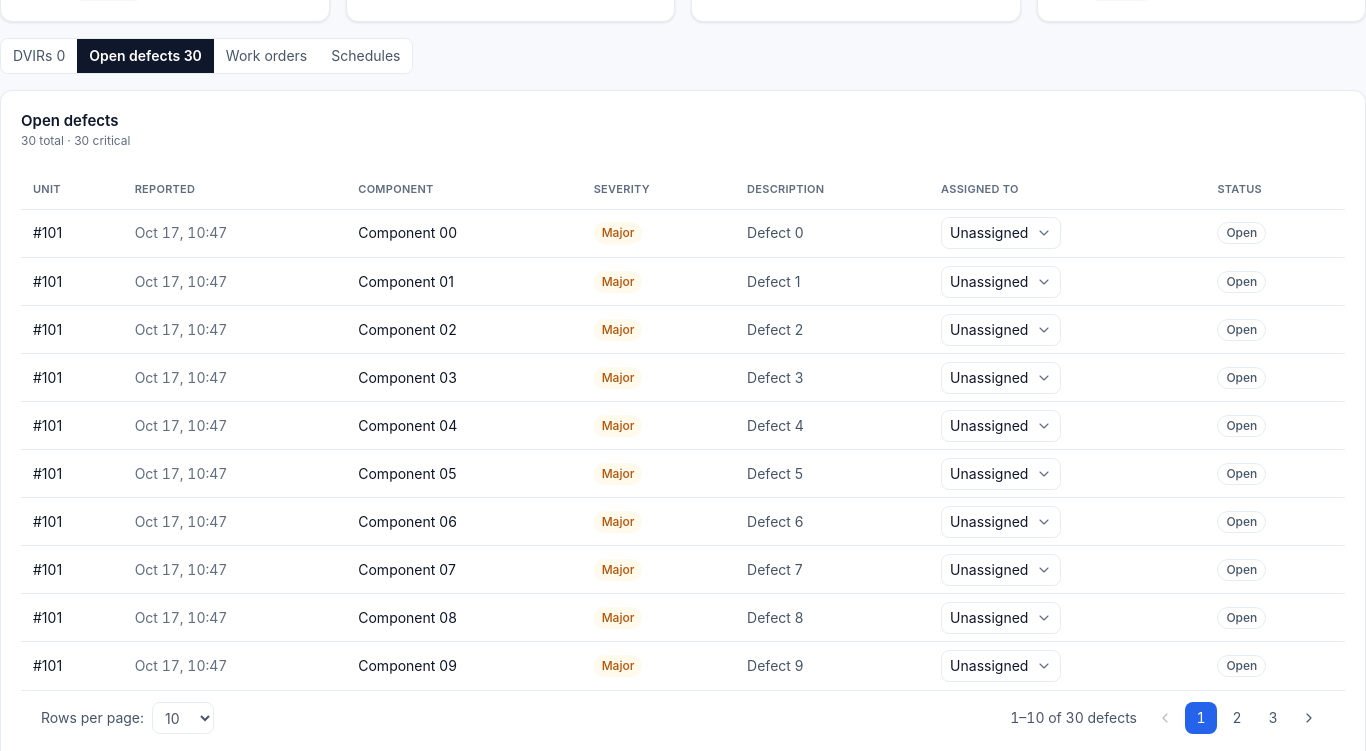
DvirPage › open defects: a search typed on page 2 re-pages to page 1
(page scrolled)
Step 1. Click the button "2" → (1237, 718), box [1221, 702, 1253, 734]
(page scrolled)
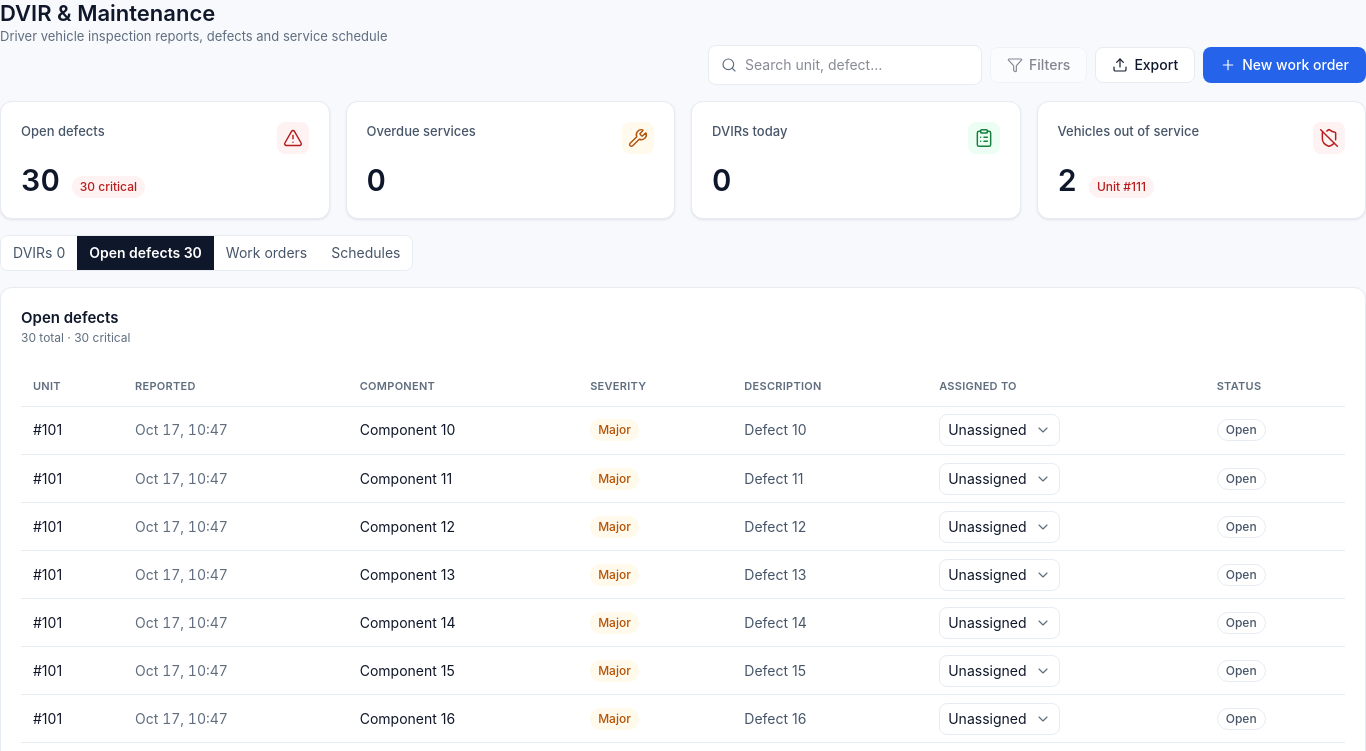
Check: the text "Component 10" is shown, box [360, 421, 455, 438]
Step 2. Type "Component 03" into the field with placeholder "Search unit, defect…" → (857, 65), box [745, 55, 969, 75]
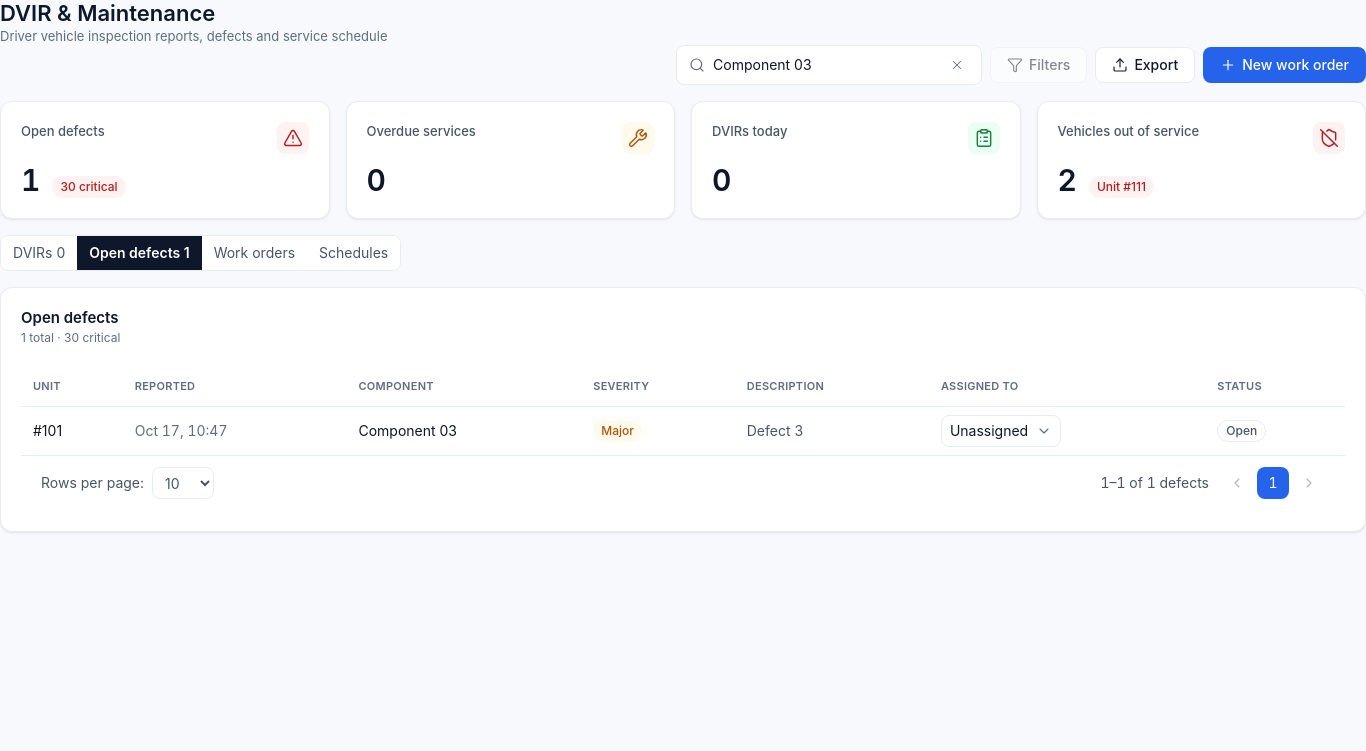
Check: the text "Component 03" is shown, box [358, 422, 457, 438]
